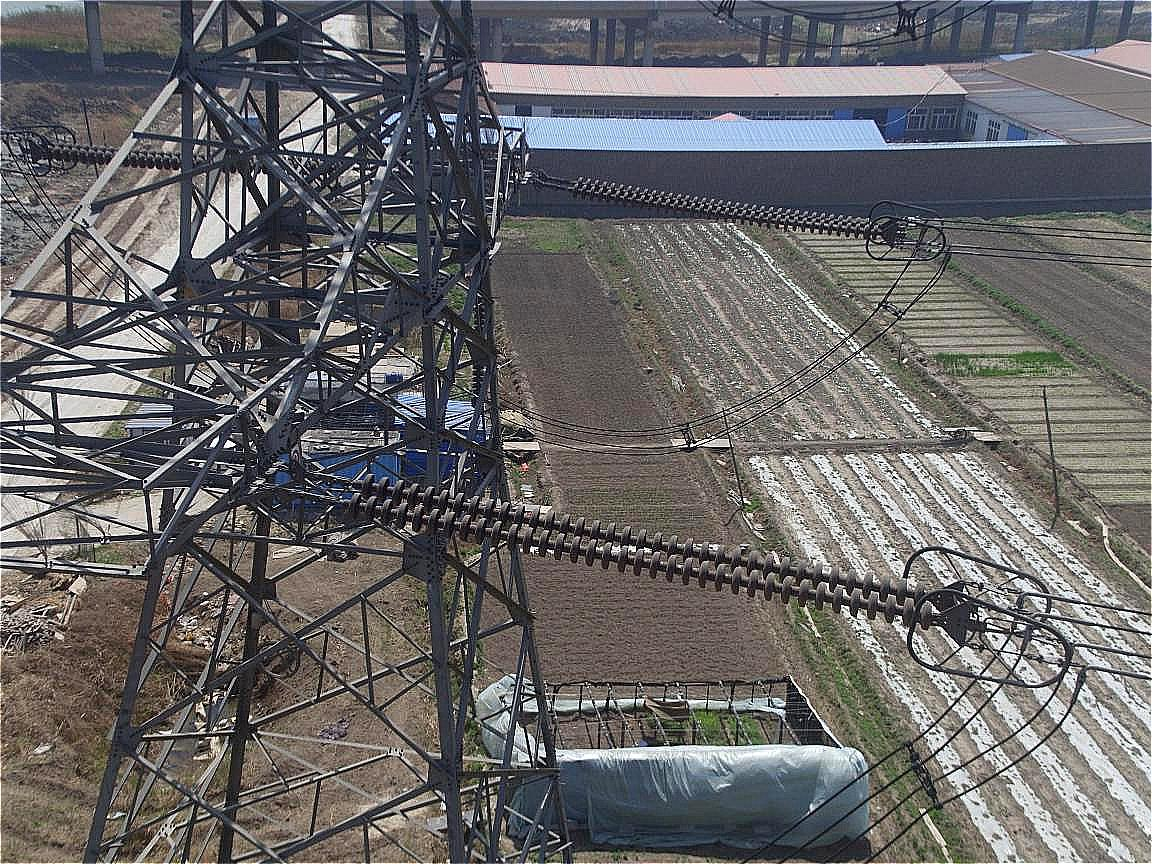insultor1: (347, 472, 934, 630), (573, 176, 878, 239)
